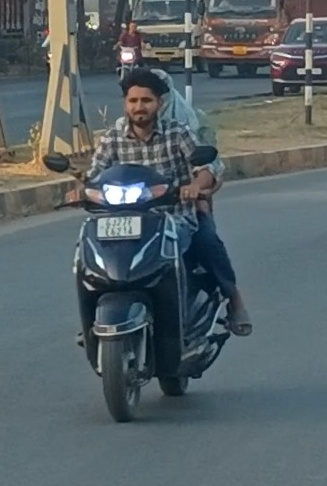BikeWithRider: (38, 62, 260, 429), (107, 18, 152, 94)
NoHelmet: (118, 67, 167, 130), (137, 67, 180, 116)
